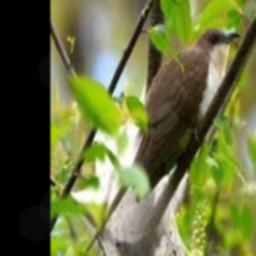Cuckoo: (85, 27, 240, 253)
